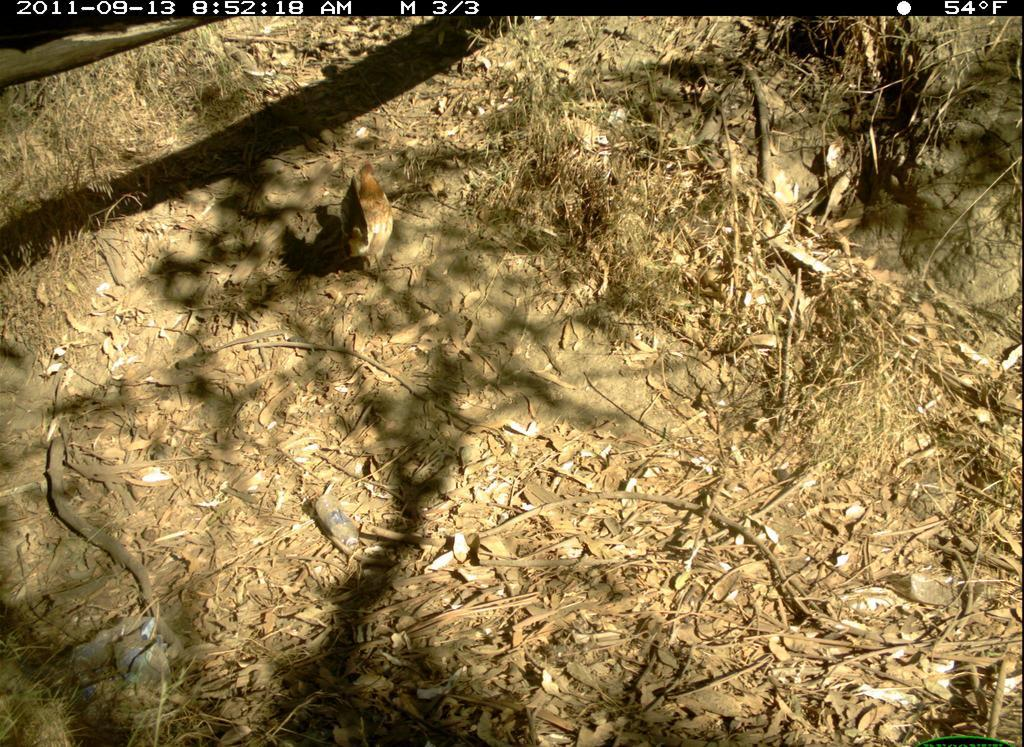bird: (335, 149, 415, 273)
